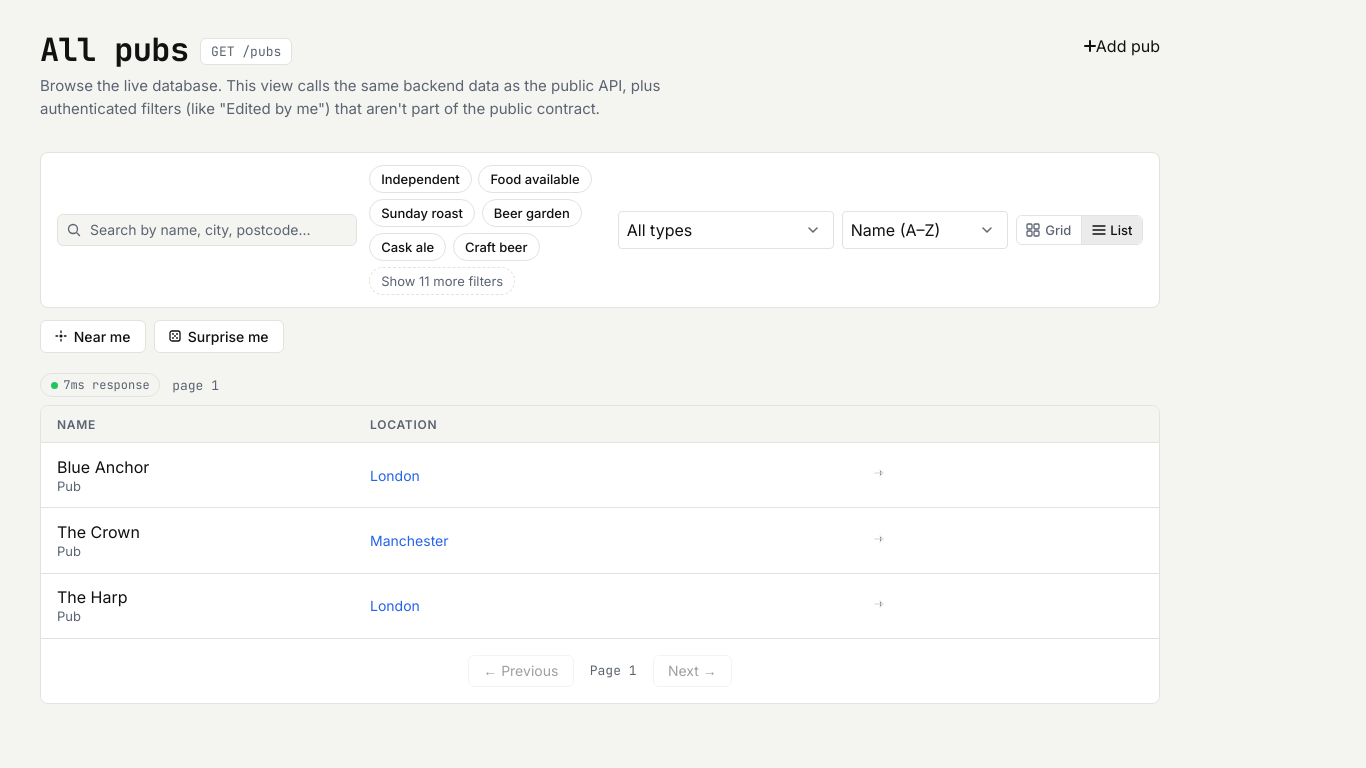
Scenario: Pubs page › search filtering › filters pubs by city
Expected: the link "The Harp" is shown, [57,587,128,607]
Type "manchester" into the search field with placeholder "Search by name, city, postcode...".
click(207, 230); type("manchester")  # box [57,214,357,246]
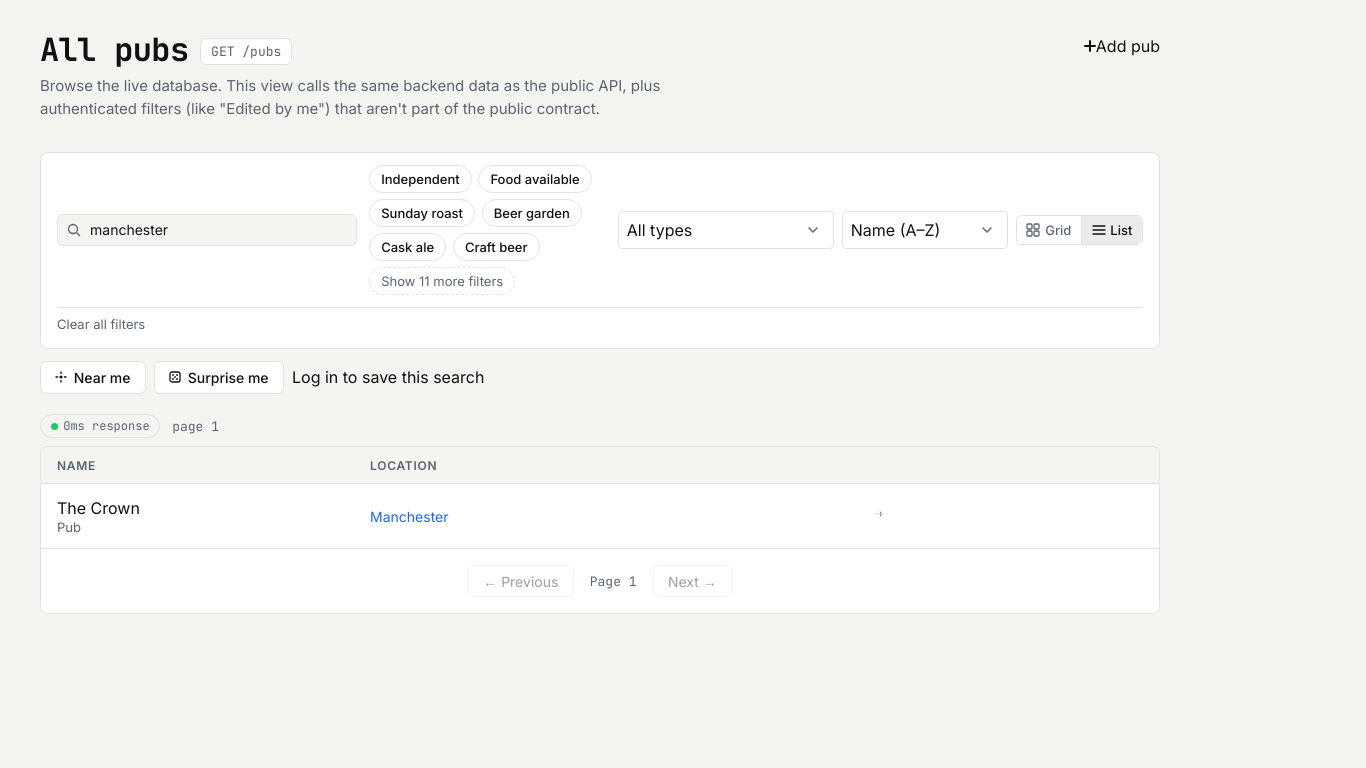
Expected: the link "The Crown" is shown, [57,498,140,518]
Expected: the link "The Harp" is gone
Expected: the link "Blue Anchor" is gone
